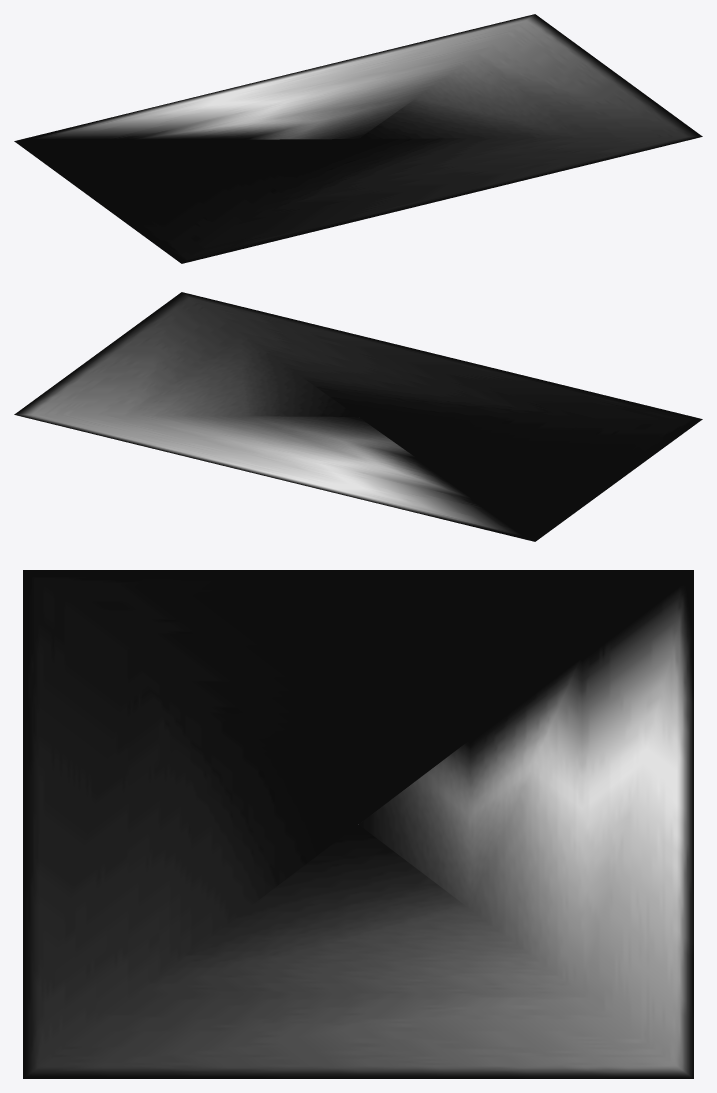
Rendered from 0514_zhunxin_z02.glb.
3 renders of one model, top to bottom at view 1: azimuth 30°, elevation 25°; view 2: azimuth 150°, elevation 25°; view 3: azimuth 270°, elevation 25°, orthographic. The views are drawn at different scales.
Bounding box in the file's own units: 2.2 × 7.51e-17 × 1.23.
Materials: 1 (1 with a texture image).
